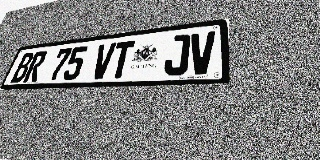5: (62, 46, 88, 81)
7: (47, 48, 73, 81)
B: (10, 52, 35, 83)
J: (163, 34, 190, 76)
R: (23, 51, 48, 82)
T: (108, 40, 135, 78)
V: (188, 31, 215, 75), (90, 42, 117, 79)
